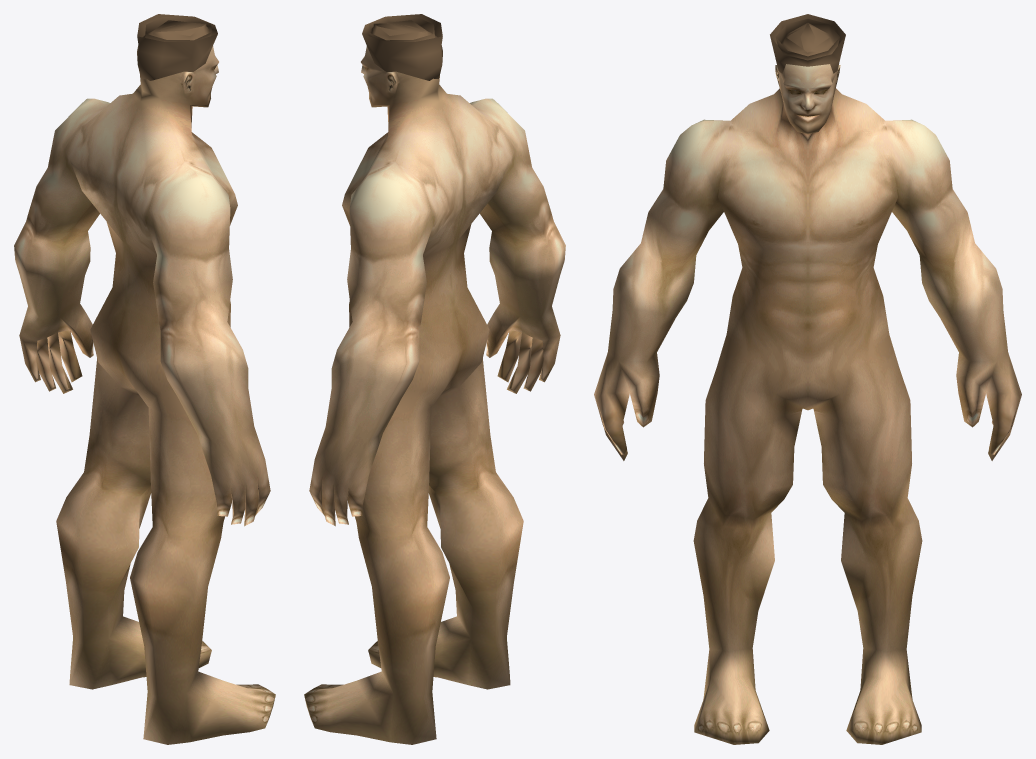
File: human_male.glb
3 views of the same model, side by side, from view 1: azimuth 30°, elevation 25°; view 2: azimuth 150°, elevation 25°; view 3: azimuth 270°, elevation 25° (orthographic). The views are drawn at different scales.
Bounding box in the file's own units: 0.46 × 2.01 × 1.14.
Materials: 2 (1 with a texture image).
